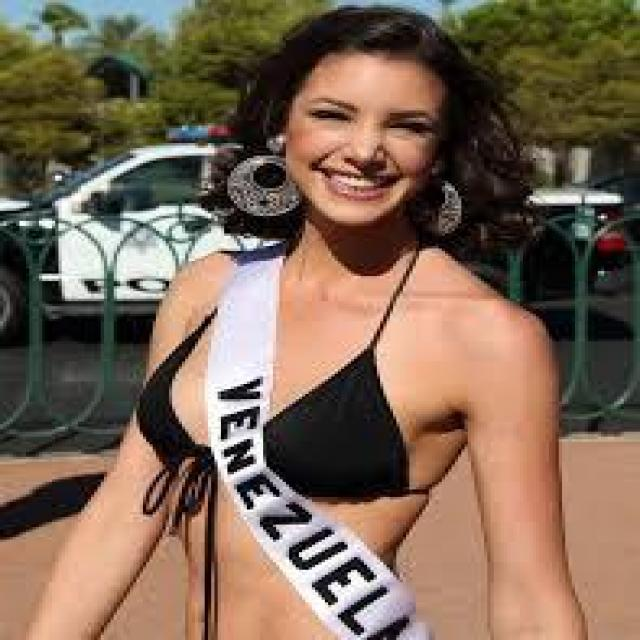person: (62, 5, 588, 638)
